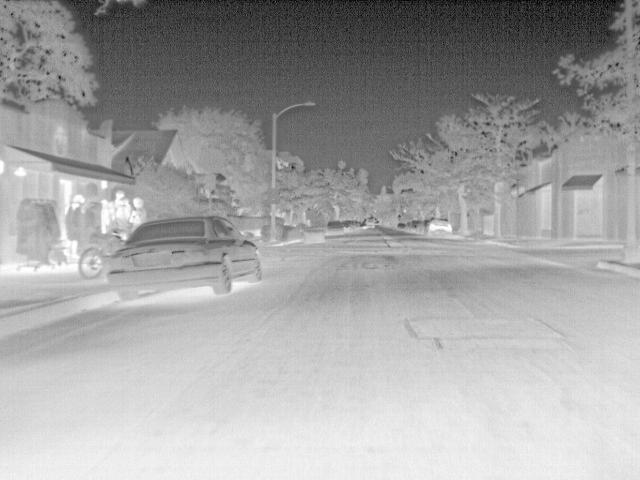car: (108, 216, 268, 302), (426, 216, 458, 235), (325, 219, 346, 239), (410, 220, 424, 234), (363, 218, 376, 230)
person: (128, 197, 149, 228), (113, 185, 127, 212), (70, 192, 87, 213)
